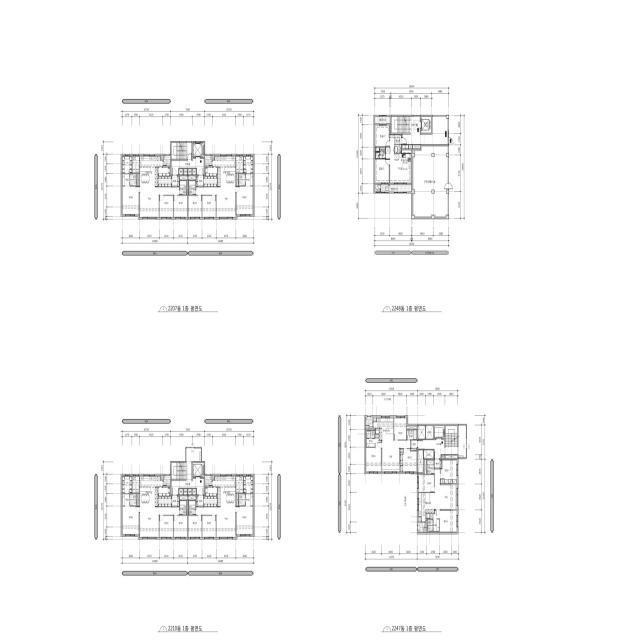space_balconi: (381, 185, 412, 192), (375, 116, 390, 123)
space_bedroom: (366, 438, 381, 472), (433, 511, 457, 532), (122, 186, 139, 215), (122, 506, 139, 535), (237, 186, 253, 215), (237, 506, 253, 535), (400, 449, 417, 472), (441, 460, 457, 483), (375, 159, 389, 183), (188, 516, 202, 538), (202, 196, 216, 218), (159, 196, 173, 218), (188, 196, 202, 218), (159, 516, 173, 538), (202, 516, 216, 538), (375, 125, 389, 146), (174, 516, 187, 538), (174, 196, 187, 218), (394, 417, 406, 440), (418, 475, 434, 492)
space_dressroom: (122, 475, 132, 493), (122, 155, 132, 173), (244, 475, 253, 493), (244, 155, 253, 173)
space_elevator: (421, 117, 431, 133), (193, 463, 204, 477), (193, 143, 204, 157), (434, 426, 444, 438)
space_elevator_hall: (171, 448, 204, 494), (403, 116, 448, 144), (418, 438, 457, 458), (171, 159, 204, 174)
space_front: (204, 496, 217, 506), (204, 176, 217, 186), (158, 177, 171, 186), (158, 497, 171, 506), (390, 135, 402, 144), (196, 496, 203, 506), (172, 176, 179, 186), (196, 176, 203, 186), (172, 496, 179, 506), (411, 440, 417, 450), (435, 460, 442, 468)
space_kitchen: (212, 475, 235, 507), (212, 155, 235, 187), (140, 155, 163, 187), (140, 475, 163, 507), (373, 417, 394, 440), (418, 493, 435, 521), (395, 154, 411, 170), (158, 167, 170, 176), (158, 487, 170, 496), (205, 168, 217, 176), (205, 488, 217, 496)
space_living_room: (139, 507, 179, 538), (196, 187, 236, 218), (139, 187, 179, 218), (196, 507, 236, 538), (386, 138, 411, 183), (382, 440, 410, 472), (435, 469, 457, 509)
space_other: (413, 146, 448, 217), (458, 425, 466, 458), (132, 475, 139, 493), (132, 155, 139, 173), (236, 155, 243, 173), (236, 475, 243, 493), (418, 450, 423, 472), (426, 426, 433, 439), (418, 426, 425, 439), (376, 148, 385, 158), (365, 417, 373, 428), (424, 450, 434, 458), (418, 522, 426, 532), (395, 145, 401, 153), (375, 185, 381, 192), (446, 455, 457, 458), (188, 496, 196, 500), (188, 176, 196, 180), (407, 426, 417, 429), (180, 176, 187, 180), (180, 496, 187, 500), (402, 150, 411, 153), (236, 494, 238, 506), (137, 174, 139, 186), (236, 174, 238, 186), (137, 494, 139, 506), (413, 145, 420, 148), (192, 489, 196, 494), (188, 169, 192, 174), (179, 169, 183, 174), (192, 169, 196, 174), (188, 489, 192, 494), (179, 489, 183, 494), (375, 434, 379, 438), (403, 145, 408, 148), (184, 169, 187, 174), (184, 489, 187, 494), (425, 460, 426, 474), (441, 455, 445, 458), (409, 145, 412, 148), (424, 528, 426, 532), (431, 514, 433, 518), (419, 517, 421, 521), (212, 156, 214, 160), (212, 476, 214, 480), (374, 418, 376, 421), (366, 426, 369, 428)
space_outdoor_room: (205, 155, 212, 166), (205, 475, 212, 486), (164, 155, 170, 166), (164, 475, 170, 486)
space_staircase: (171, 143, 192, 159), (391, 117, 410, 133), (171, 463, 186, 479), (446, 426, 457, 447)
space_toilet: (367, 430, 375, 447), (428, 519, 439, 531), (427, 460, 434, 474), (189, 501, 196, 515), (180, 181, 187, 195), (189, 181, 196, 195), (180, 501, 187, 515), (407, 430, 417, 439), (123, 494, 130, 506), (123, 174, 130, 186), (246, 174, 253, 186), (246, 494, 253, 506), (239, 174, 245, 180), (239, 494, 245, 500), (130, 180, 137, 185), (130, 174, 137, 179), (130, 494, 137, 499), (130, 500, 137, 505), (239, 180, 245, 185), (239, 500, 245, 505)
